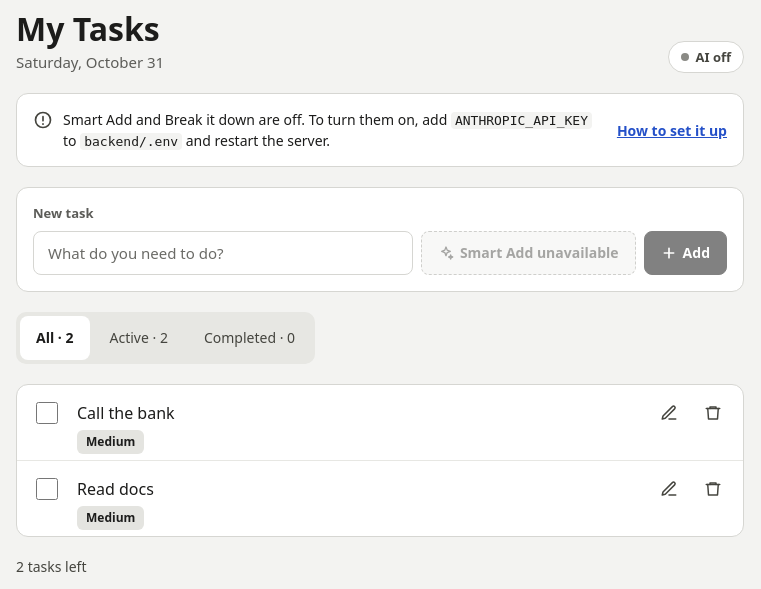
Test: App › task list › deletes a task
The width and height of the screenshot is (761, 589).
Click the button named "Delete \"Call the bank\"". click: click(713, 413)
box: [691,391,735,435]
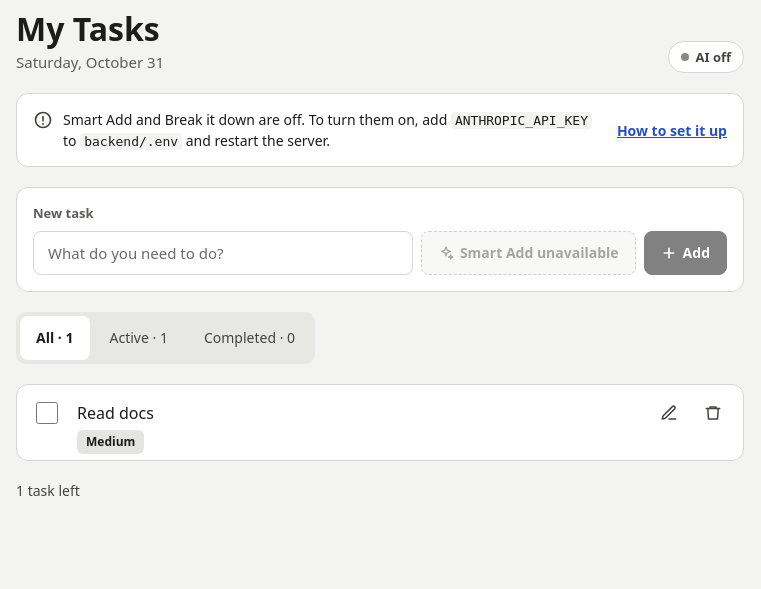
Expected: the checkbox named "Read docs" is shown, [36,402,58,424]
Expected: the text "Call the bank" is gone
